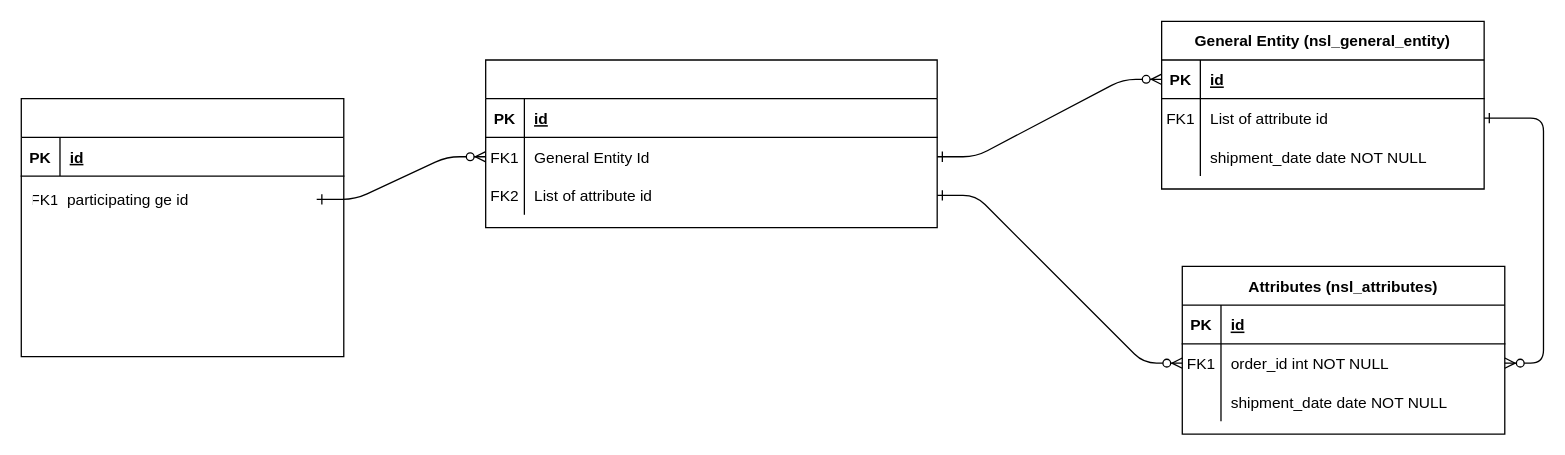
The diagram is 1565 pixels wide and 455 high, and some of its shapes have lost their labels. The box of each missing label's shape, as (x1, y1, x2, y2) in pixels:
CU (nsl_change_unit): (20, 97, 344, 357)
Participating GE (nsl_Participating_general_entity ): (484, 59, 937, 228)
